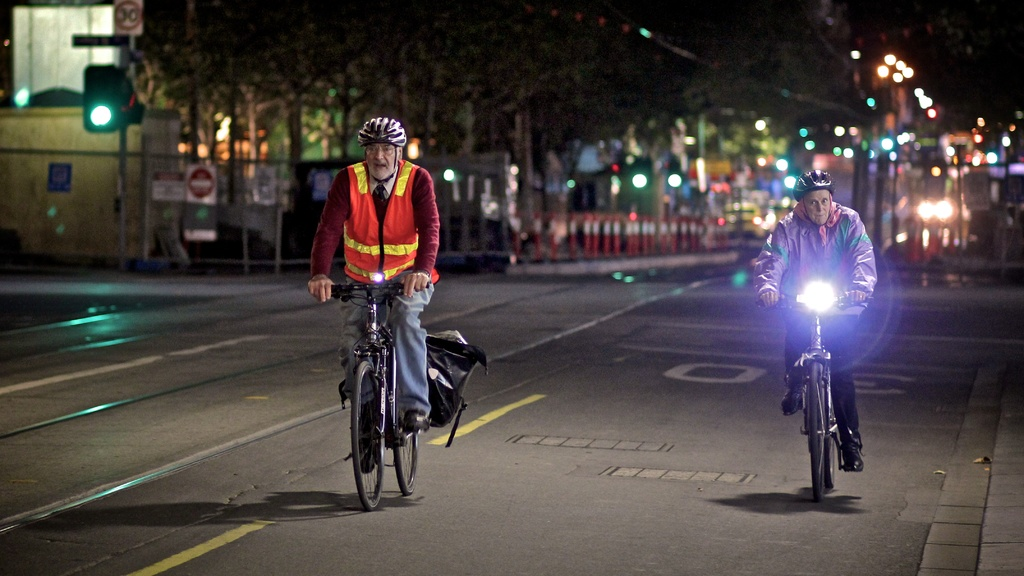Bike: (300, 272, 468, 510), (750, 288, 872, 500)
